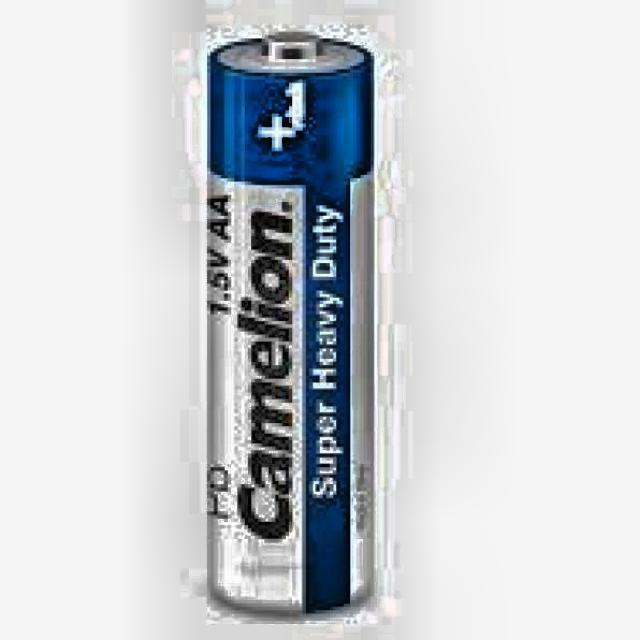battery: (207, 32, 371, 610)
